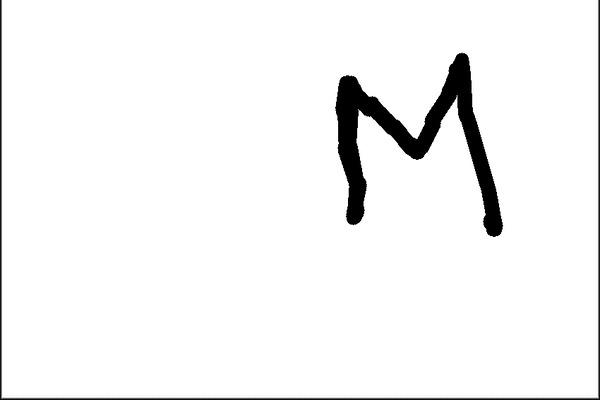M: (327, 49, 507, 240)
